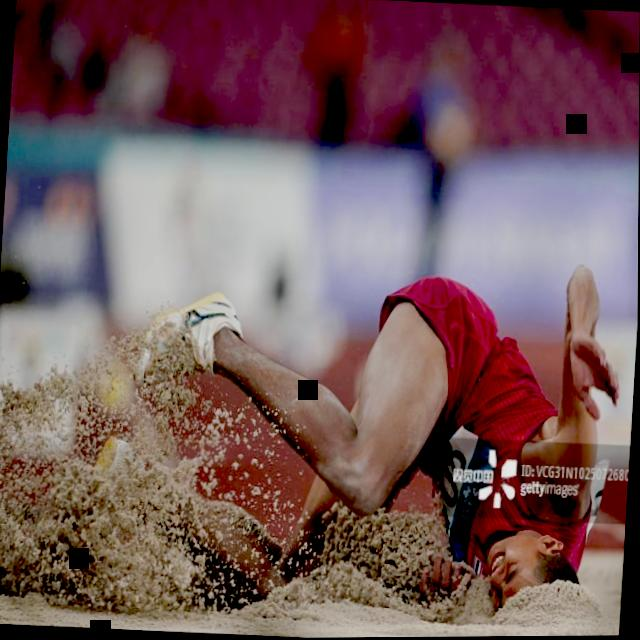Fall-Detected: (0, 191, 639, 640)
